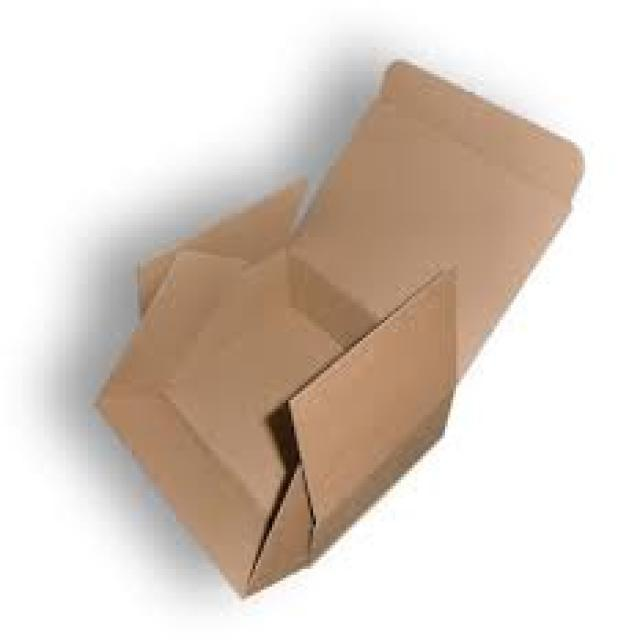Cardboard: (92, 55, 586, 599)
